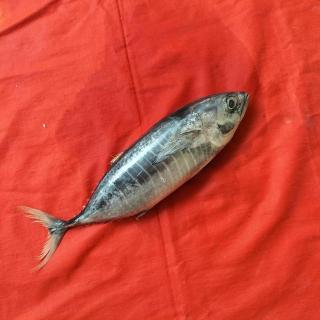Ikan: (18, 81, 256, 279)
